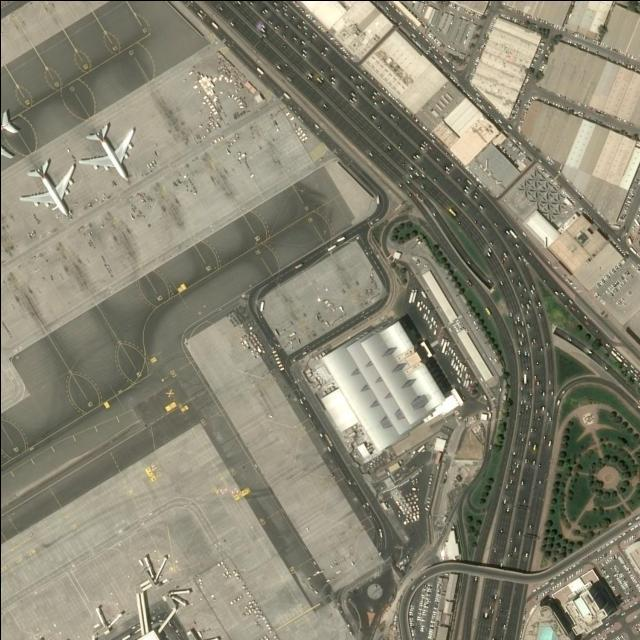Aircraft: (20, 157, 77, 217), (79, 120, 136, 179), (0, 99, 19, 156)
